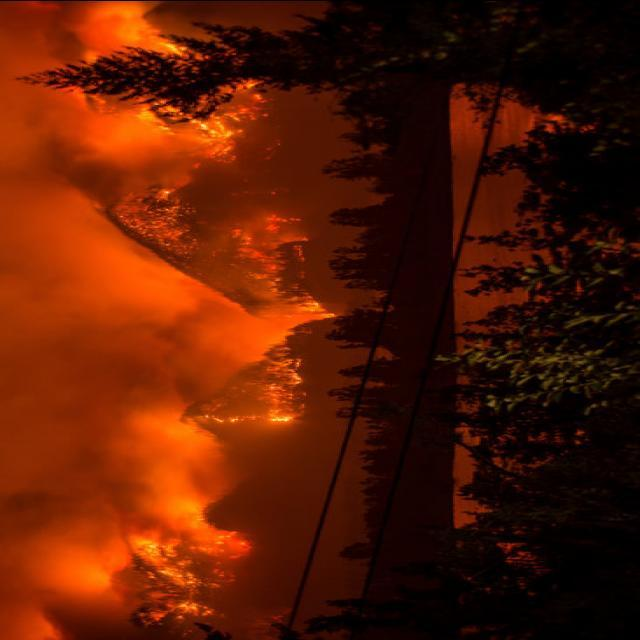Fire: (61, 8, 292, 244), (152, 288, 334, 432), (77, 484, 259, 620)
